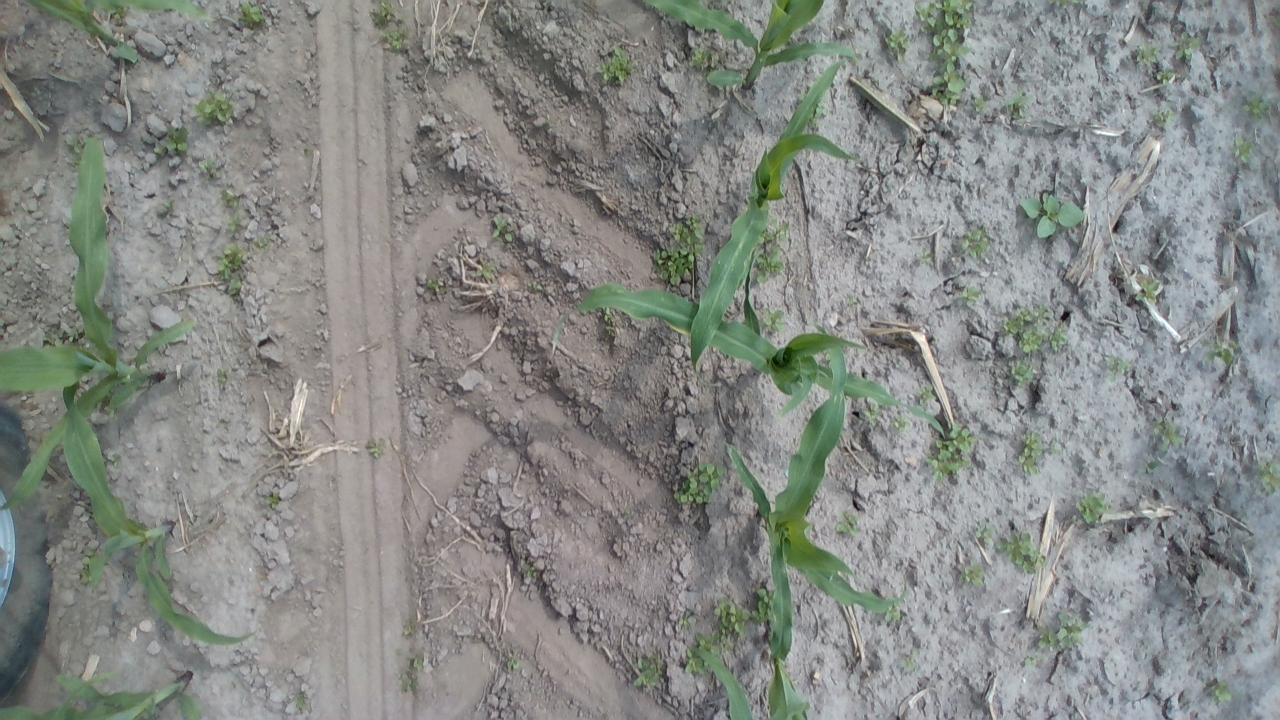Maize: (2, 136, 195, 512), (726, 340, 904, 712), (559, 273, 937, 439), (62, 352, 266, 645), (689, 49, 863, 380), (640, 0, 869, 106), (17, 0, 215, 62), (0, 662, 204, 718), (697, 647, 754, 719)
Weeds: (922, 0, 974, 102), (649, 212, 706, 288), (926, 424, 976, 482), (1021, 192, 1085, 236), (674, 459, 726, 507), (1031, 611, 1088, 654), (756, 218, 788, 284), (998, 532, 1044, 572), (193, 89, 236, 127), (216, 244, 246, 298), (1019, 321, 1070, 352), (711, 596, 750, 636), (597, 46, 636, 84), (1016, 430, 1048, 476), (998, 305, 1045, 332), (632, 652, 665, 690), (958, 226, 994, 258), (1076, 492, 1108, 526), (689, 632, 724, 662), (396, 656, 422, 696), (1208, 334, 1240, 366), (370, 1, 406, 28), (684, 644, 716, 674), (1154, 415, 1181, 450), (1170, 32, 1201, 62), (237, 1, 268, 31), (156, 126, 188, 155), (1007, 359, 1039, 387), (1242, 92, 1271, 122), (65, 134, 91, 166), (884, 29, 908, 62), (1004, 90, 1033, 117), (959, 561, 986, 590), (1256, 458, 1276, 496), (752, 586, 773, 622), (1135, 278, 1162, 306), (688, 45, 718, 70), (80, 550, 102, 583), (378, 29, 410, 50), (834, 511, 860, 536), (1232, 136, 1256, 162), (1209, 680, 1235, 704), (491, 217, 514, 243), (1106, 356, 1130, 380), (762, 308, 786, 332), (1133, 44, 1159, 66), (1150, 108, 1178, 128), (974, 522, 996, 546), (808, 97, 826, 124), (862, 403, 882, 425), (218, 188, 238, 210), (505, 648, 524, 671), (968, 93, 988, 114), (200, 156, 219, 178), (1155, 68, 1176, 86), (252, 233, 274, 250), (884, 604, 904, 622), (959, 286, 980, 303), (293, 690, 309, 712), (522, 565, 540, 584), (900, 652, 919, 670), (263, 492, 282, 510), (367, 439, 386, 457), (677, 611, 695, 629), (916, 386, 936, 402), (476, 264, 496, 280), (401, 618, 417, 638), (225, 216, 242, 234), (892, 415, 909, 432), (90, 670, 110, 684), (917, 250, 935, 265), (424, 276, 442, 291), (214, 367, 228, 386), (527, 278, 544, 293), (1050, 0, 1080, 7), (844, 296, 856, 308)
